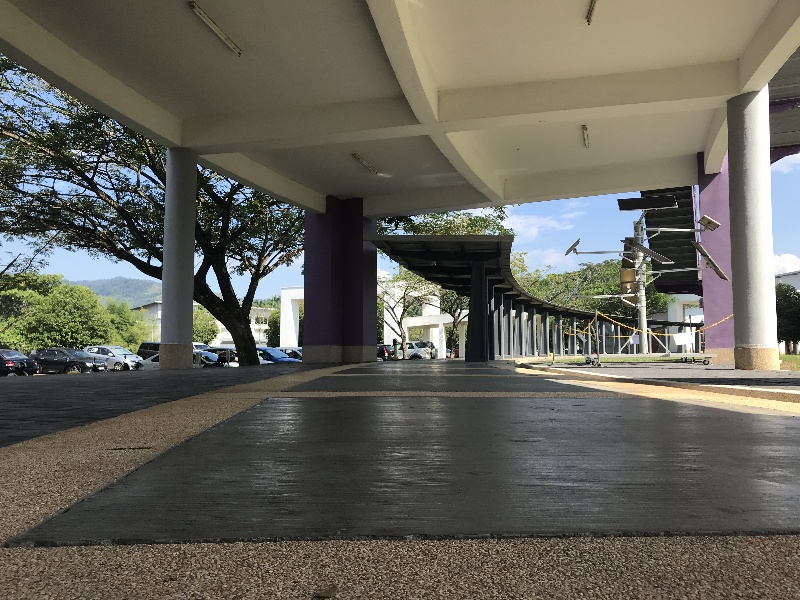Block D Pillar 5: (8, 6, 799, 509)
pillar: (296, 191, 392, 370), (726, 83, 784, 375), (153, 140, 201, 370), (462, 255, 495, 363)
